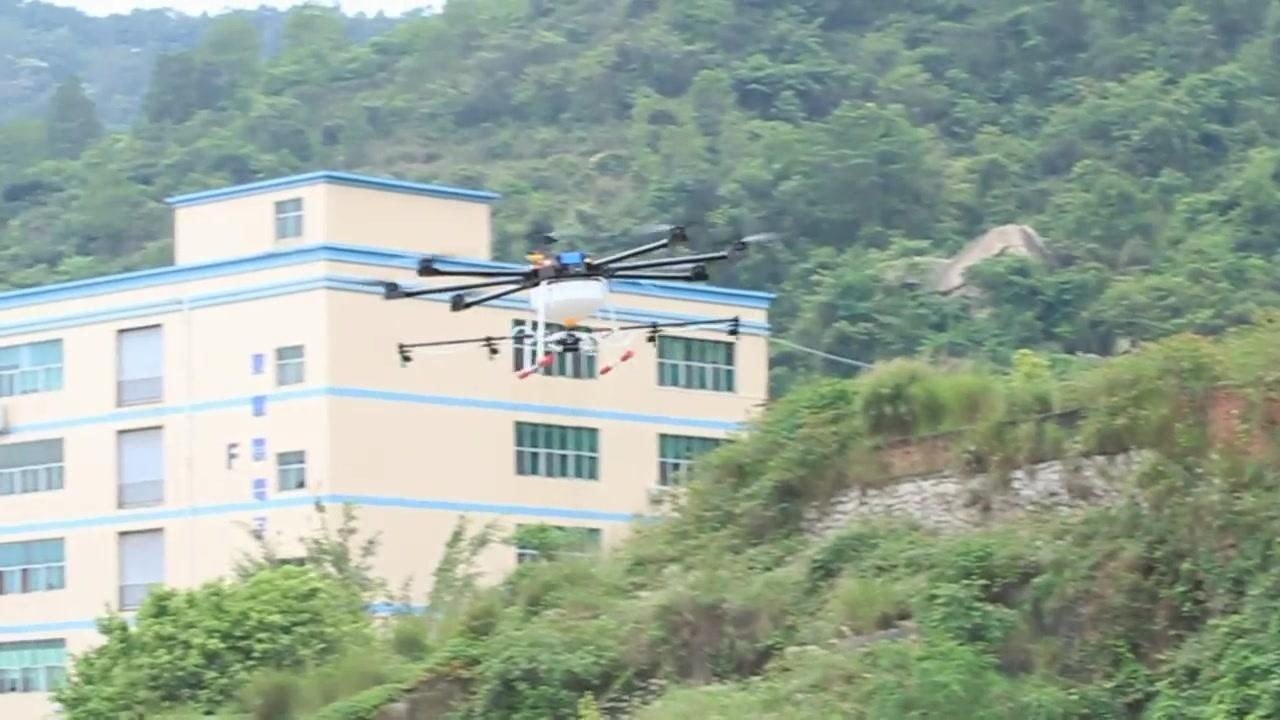UAV: (384, 228, 739, 381)
